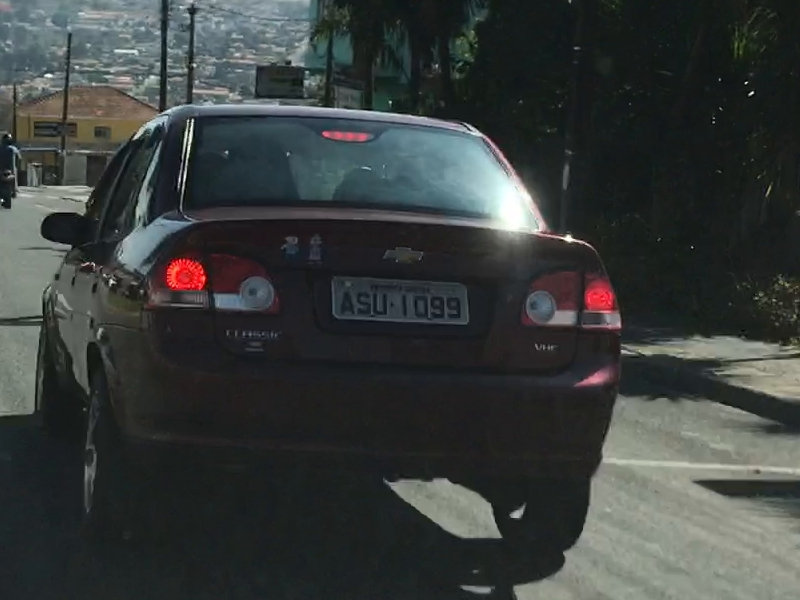placa: (331, 276, 469, 325)
